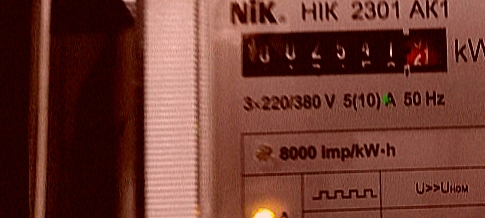0: (254, 38, 272, 64), (281, 34, 296, 62)
1: (381, 31, 395, 58)
2: (305, 34, 322, 59)
4: (357, 32, 371, 56)
5: (330, 33, 349, 61)
6: (409, 48, 424, 66)
screen: (227, 13, 461, 87)
